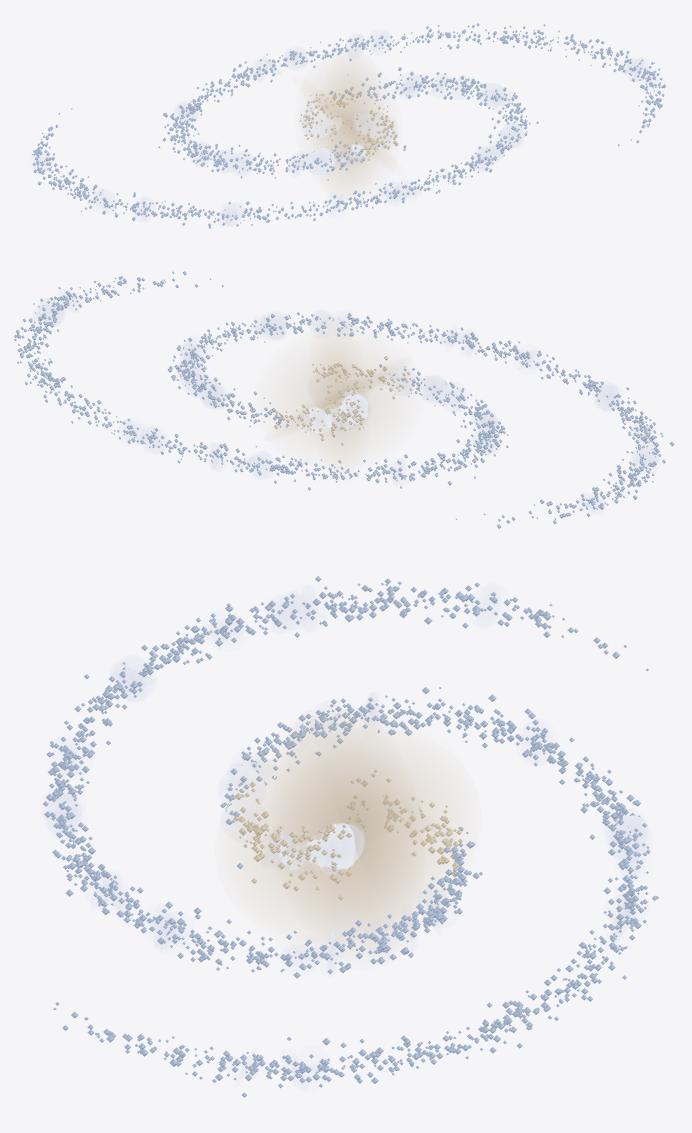
3 renders of one model, top to bottom at view 1: azimuth 30°, elevation 25°; view 2: azimuth 150°, elevation 25°; view 3: azimuth 270°, elevation 25°, orthographic. The views are drawn at different scales.
Bounding box in the file's own units: 7.21 × 1.78 × 4.01.
